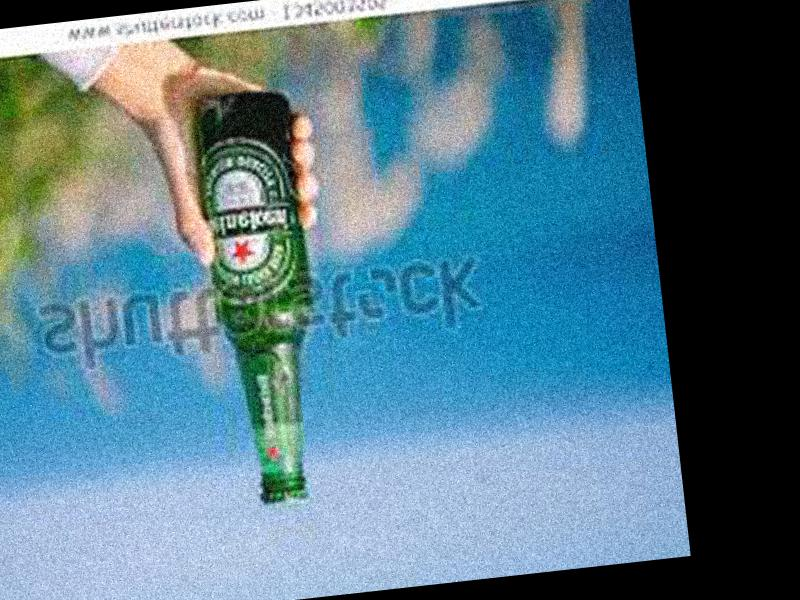Beer: (189, 86, 333, 509)
